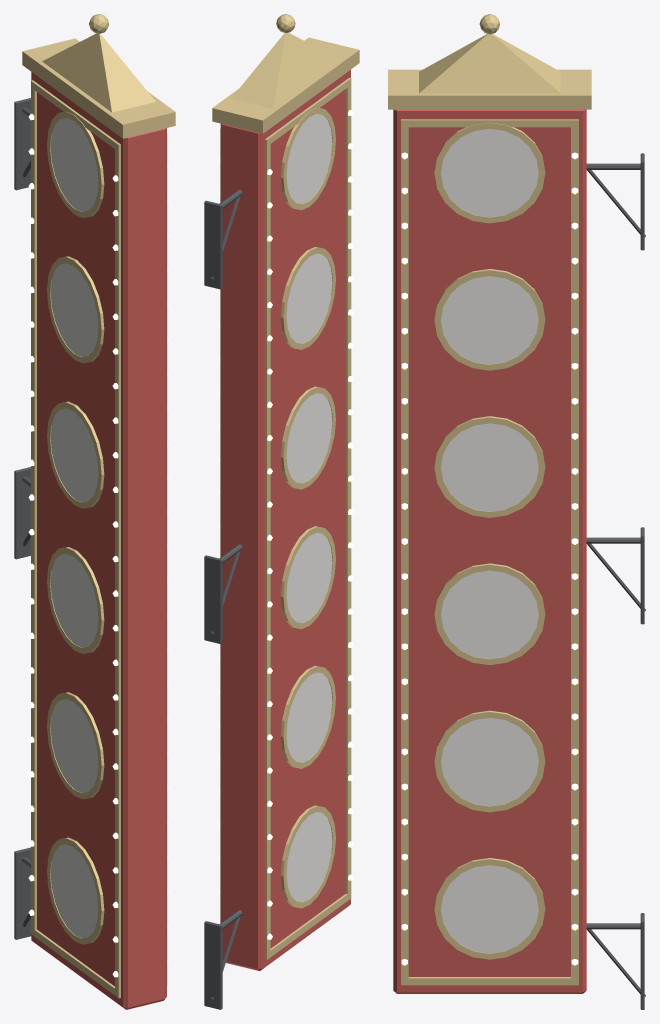
The model's file is blade_sign.glb.
3 views of the same model, side by side, from view 1: azimuth 30°, elevation 25°; view 2: azimuth 150°, elevation 25°; view 3: azimuth 270°, elevation 25° (orthographic). The views are drawn at different scales.
Visible parts, largest first — view 1: blade_sign_sign, blade_sign_gold, blade_sign_board, blade_sign_iron, blade_sign_lamp_glass; view 2: blade_sign_sign, blade_sign_gold, blade_sign_board, blade_sign_iron, blade_sign_lamp_glass; view 3: blade_sign_sign, blade_sign_board, blade_sign_gold, blade_sign_iron, blade_sign_lamp_glass.
Part boxes in pixels (bbox=[...]): blade_sign_sign: bbox=[31, 72, 166, 1009]; blade_sign_gold: bbox=[22, 14, 175, 998]; blade_sign_board: bbox=[50, 118, 98, 938]; blade_sign_iron: bbox=[14, 98, 31, 939]; blade_sign_lamp_glass: bbox=[28, 113, 169, 977]; blade_sign_sign: bbox=[220, 70, 350, 970]; blade_sign_gold: bbox=[212, 14, 359, 959]; blade_sign_board: bbox=[286, 114, 332, 902]; blade_sign_iron: bbox=[204, 189, 242, 1009]; blade_sign_lamp_glass: bbox=[218, 110, 353, 939]; blade_sign_sign: bbox=[393, 109, 586, 993]; blade_sign_board: bbox=[441, 129, 538, 953]; blade_sign_gold: bbox=[388, 14, 591, 985]; blade_sign_iron: bbox=[586, 153, 645, 1009]; blade_sign_lamp_glass: bbox=[401, 152, 578, 965].
Size of the model in its own units: 0.501 by 8.48 by 2.
